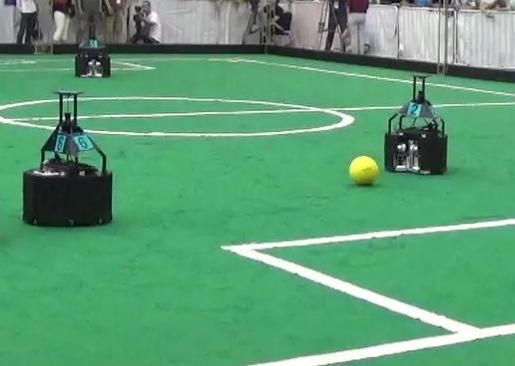robot: (18, 83, 116, 228), (380, 67, 451, 176)
